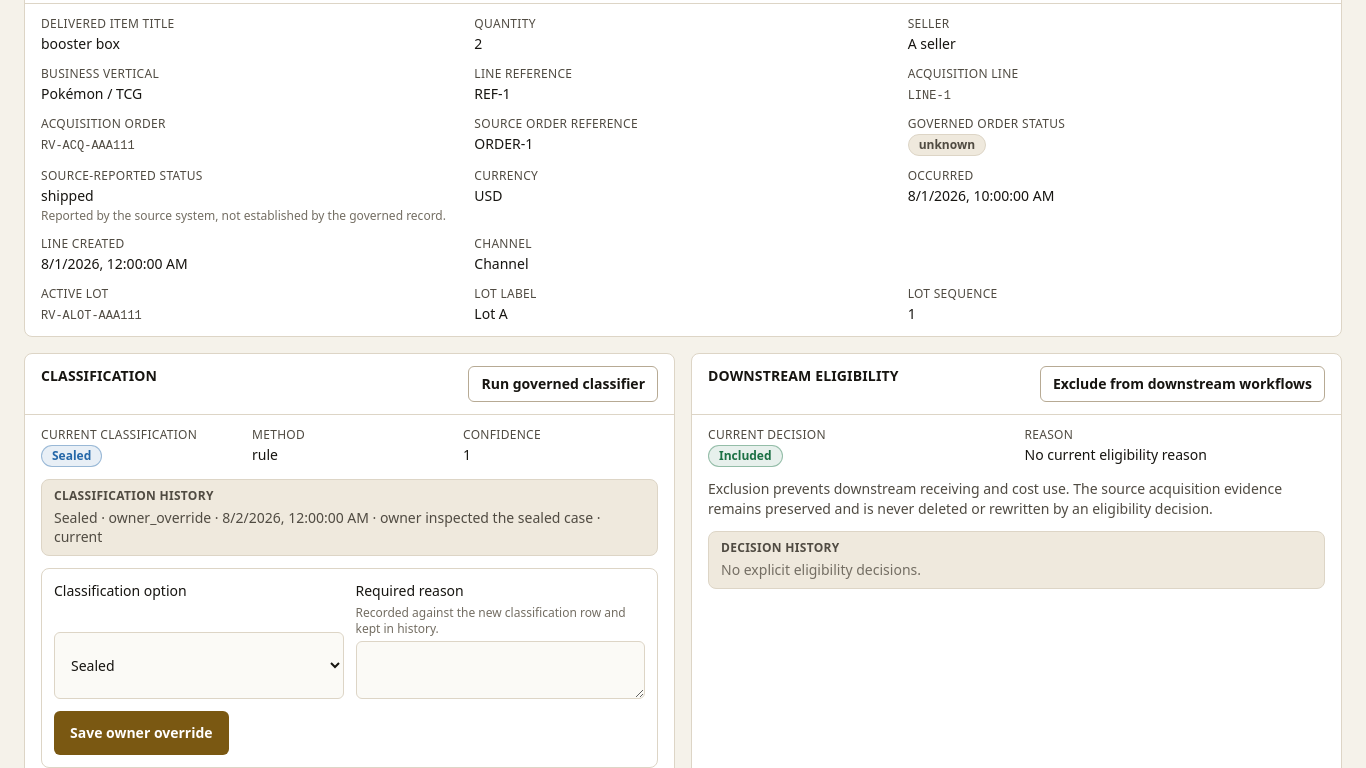
Test: S1.6.6 downstream eligibility › names the consequence and the preservation of source evidence
The image size is (1366, 768).
(page scrolled)
Click the button "Exclude from downstream workflows" at (1182, 384), box left=1040, top=366, right=1325, bottom=402
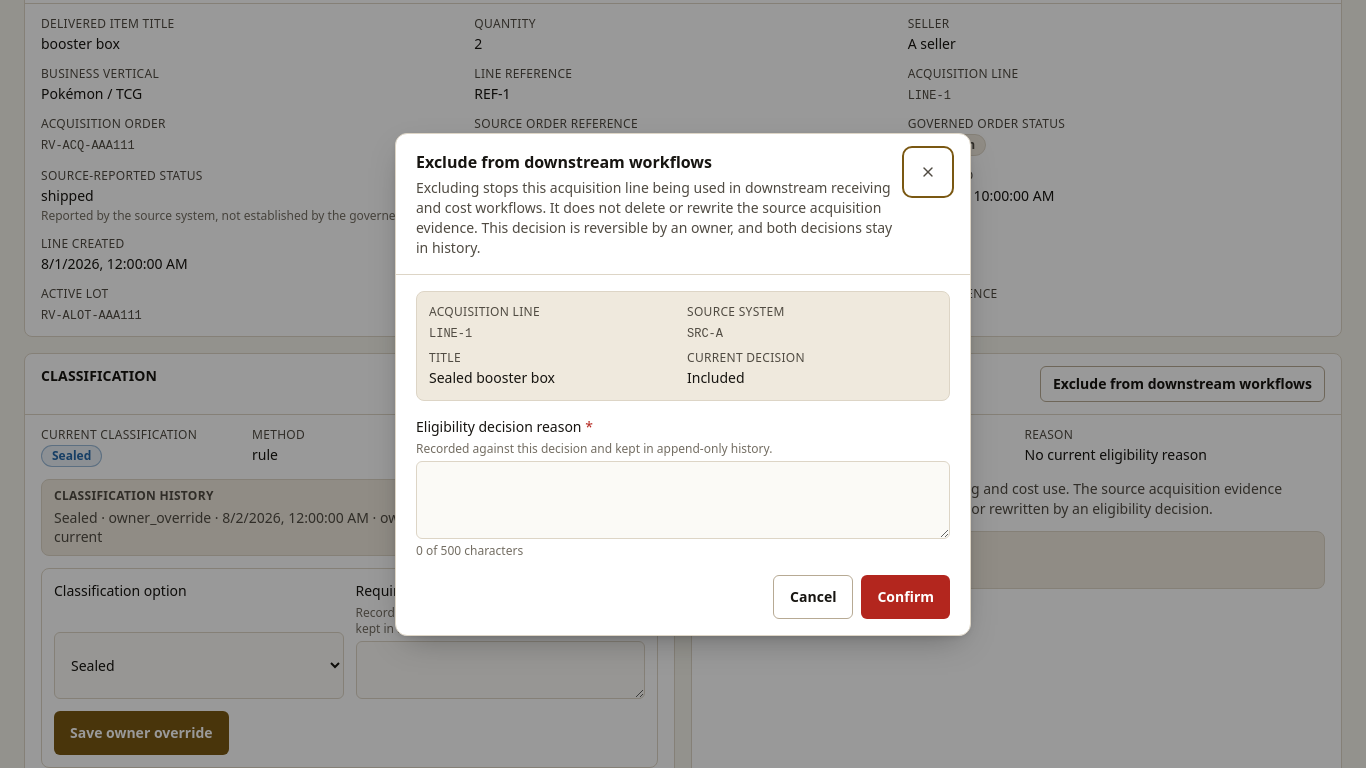
Check: the dialog shows "stops this acquisition line being used in downstream receiving", box left=416, top=178, right=892, bottom=256
Check: the dialog shows "does not delete or rewrite the source acquisition evidence", box left=416, top=178, right=892, bottom=256
